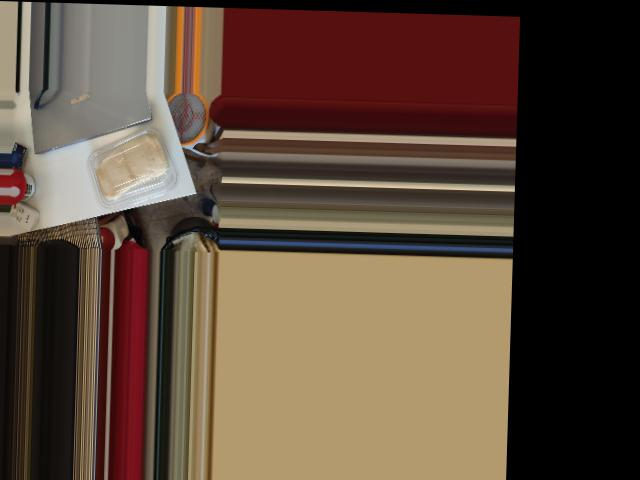cheese: (82, 124, 186, 211)
